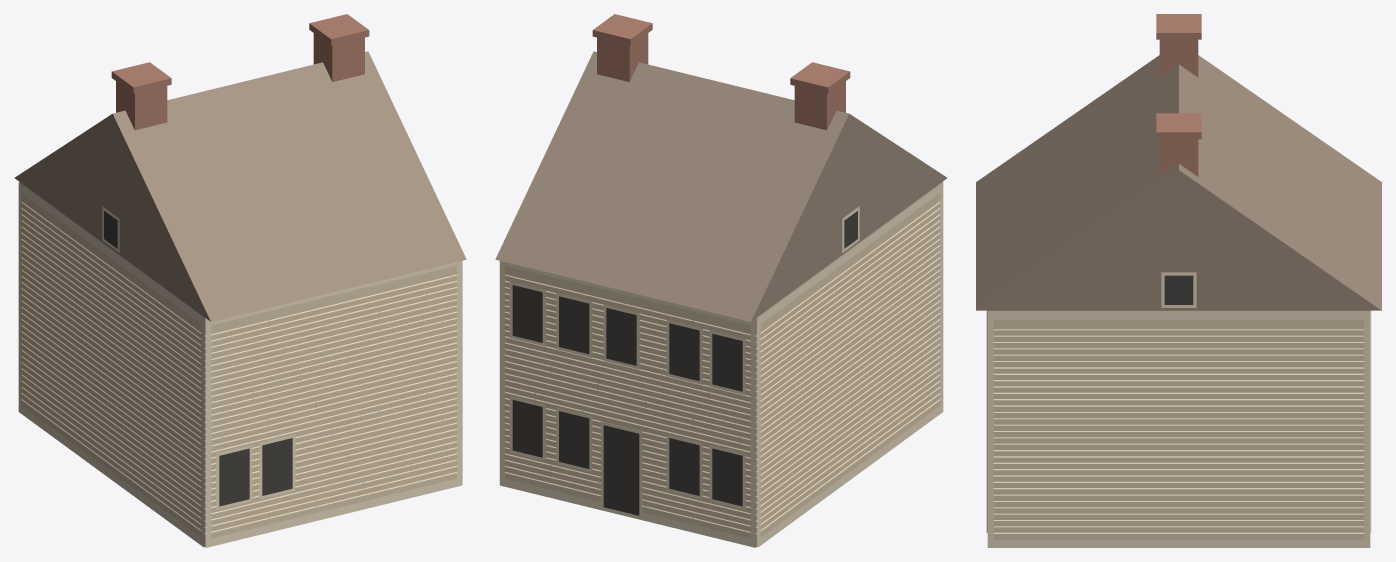
File: recon_1835_blk_south_water_lasalle_d7_12__inferred_1835.glb
3 renders of one model, left to right at view 1: azimuth 30°, elevation 25°; view 2: azimuth 150°, elevation 25°; view 3: azimuth 270°, elevation 25°, orthographic. The views are drawn at different scales.
Visible parts, largest first — view 1: recon_1835_blk_south_water_lasalle_d7_12__inferred_1835; view 2: recon_1835_blk_south_water_lasalle_d7_12__inferred_1835; view 3: recon_1835_blk_south_water_lasalle_d7_12__inferred_1835.
Part boxes in pixels (left/top/right/bottom): recon_1835_blk_south_water_lasalle_d7_12__inferred_1835: left=14, top=14, right=466, bottom=547; recon_1835_blk_south_water_lasalle_d7_12__inferred_1835: left=495, top=14, right=947, bottom=547; recon_1835_blk_south_water_lasalle_d7_12__inferred_1835: left=976, top=14, right=1381, bottom=547.
Bounding box in the file's own units: 6.69 × 9.8 × 8.79.
